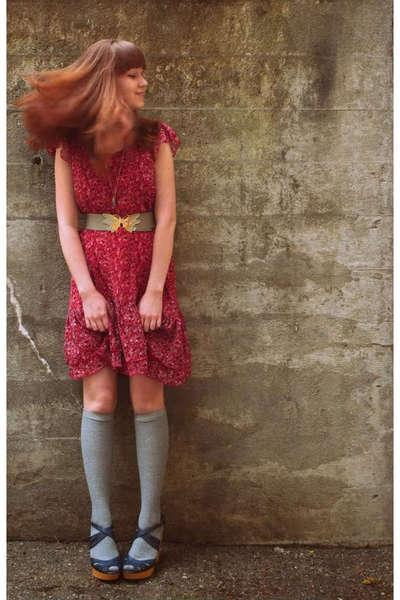dress: (60, 124, 191, 390)
shoe: (80, 517, 163, 588)
